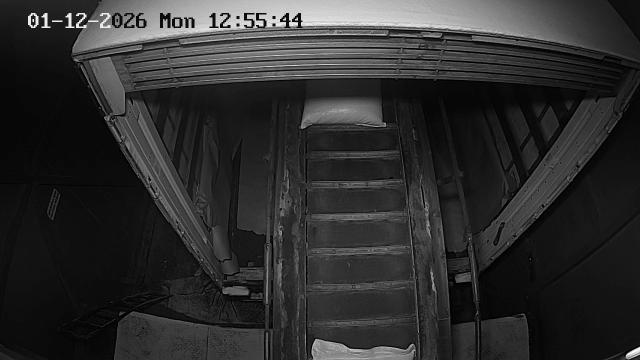bag: (300, 79, 385, 129), (312, 338, 416, 360)
